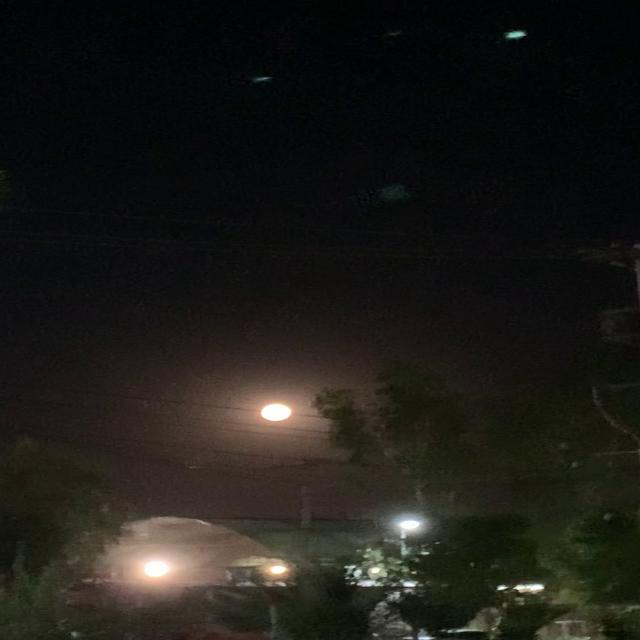moon: (246, 396, 298, 422)
